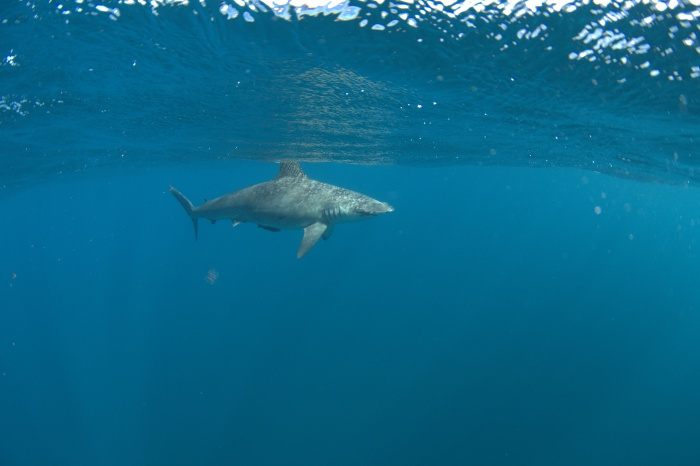Hammer: (167, 166, 421, 283)
